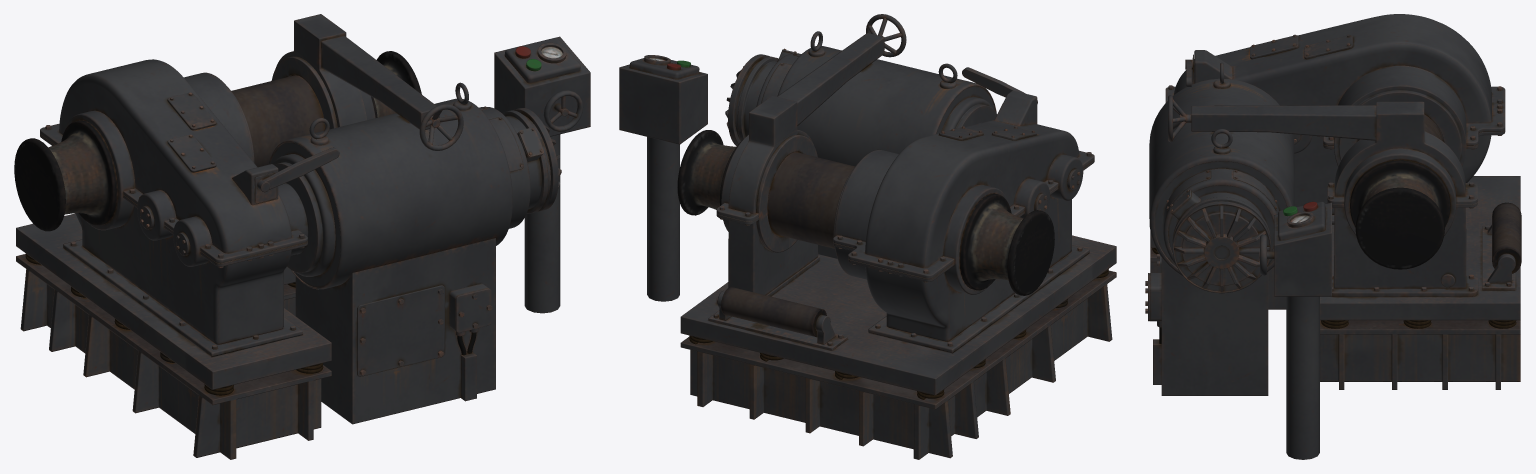
The model's file is ship_windlass_winch (1).glb.
3 views of the same model, side by side, from view 1: azimuth 30°, elevation 25°; view 2: azimuth 150°, elevation 25°; view 3: azimuth 270°, elevation 25° (orthographic). The views are drawn at different scales.
Visible parts, largest first — view 1: windlass_OBJ; view 2: windlass_OBJ; view 3: windlass_OBJ.
Boxes of the visible parts, x1,y1,x2,y2 form: windlass_OBJ: (14,14,590,459); windlass_OBJ: (619,14,1116,459); windlass_OBJ: (1145,14,1521,459).
Size of the model in its own units: 2.26 by 1.3 by 1.61.
1 material, 1 textured.
